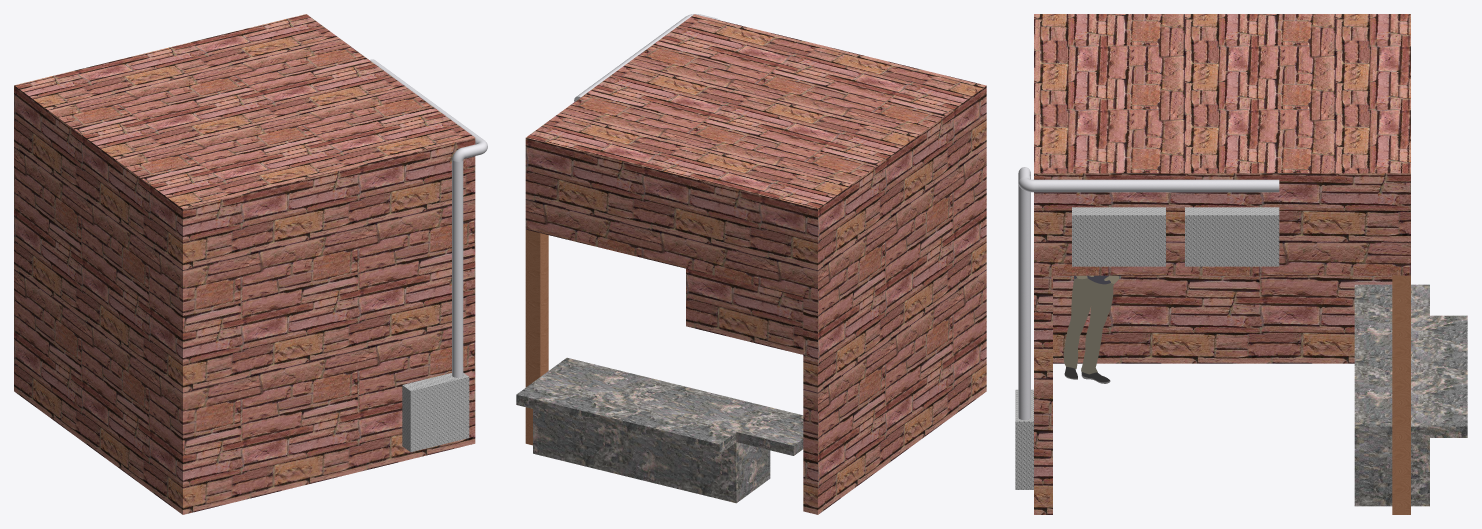
The model's file is hut.glb.
3 views of the same model, side by side, from view 1: azimuth 30°, elevation 25°; view 2: azimuth 150°, elevation 25°; view 3: azimuth 270°, elevation 25° (orthographic). The views are drawn at different scales.
Visible parts, largest first — view 1: group_0, group_6, group_7; view 2: group_0, group_2, group_1, group_3, group_7; view 3: group_0, group_2, group_7, group_5, group_4, group_1, instance_0.013, group_3, group_6.
Part boxes in pixels (x1,y1,x2,y2): group_0: (14, 14, 475, 514); group_6: (402, 373, 469, 452); group_7: (370, 59, 487, 377); group_0: (525, 14, 986, 514); group_2: (516, 357, 770, 503); group_1: (525, 229, 548, 445); group_3: (736, 407, 803, 455); group_7: (574, 14, 720, 101); group_0: (1034, 14, 1410, 514); group_2: (1354, 315, 1467, 506); group_7: (1018, 167, 1279, 420); group_5: (1185, 207, 1279, 266); group_4: (1072, 207, 1165, 266); group_1: (1392, 275, 1410, 514); instance_0.013: (1064, 278, 1113, 374); group_3: (1354, 284, 1429, 315); group_6: (1015, 389, 1033, 489).
Bounding box in the file's own units: 3.2 × 3.05 × 3.66.
12 materials, 6 textured.
